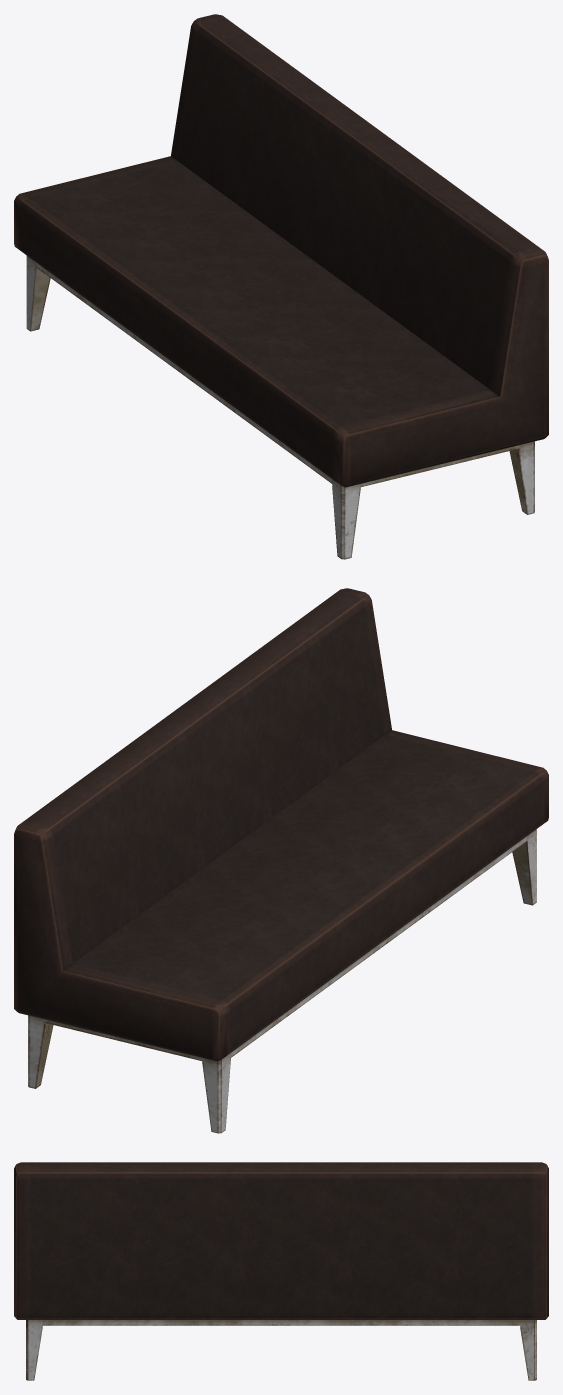
The model's file is office_sofa.glb.
The picture shows the model from 3 angles, top to bottom: view 1: azimuth 30°, elevation 25°; view 2: azimuth 150°, elevation 25°; view 3: azimuth 270°, elevation 25°; orthographic projection. The views are drawn at different scales.
Visible parts, largest first — view 1: 01, 02; view 2: 01, 02; view 3: 01, 02.
Boxes of the visible parts, <box> form: 01: <box>14,14,548,487</box>; 02: <box>26,255,534,559</box>; 01: <box>14,588,548,1061</box>; 02: <box>28,829,536,1133</box>; 01: <box>14,1162,548,1319</box>; 02: <box>26,1320,536,1380</box>.
Size of the model in its own units: 93.2 by 112 by 255.
2 materials, 2 textured.
